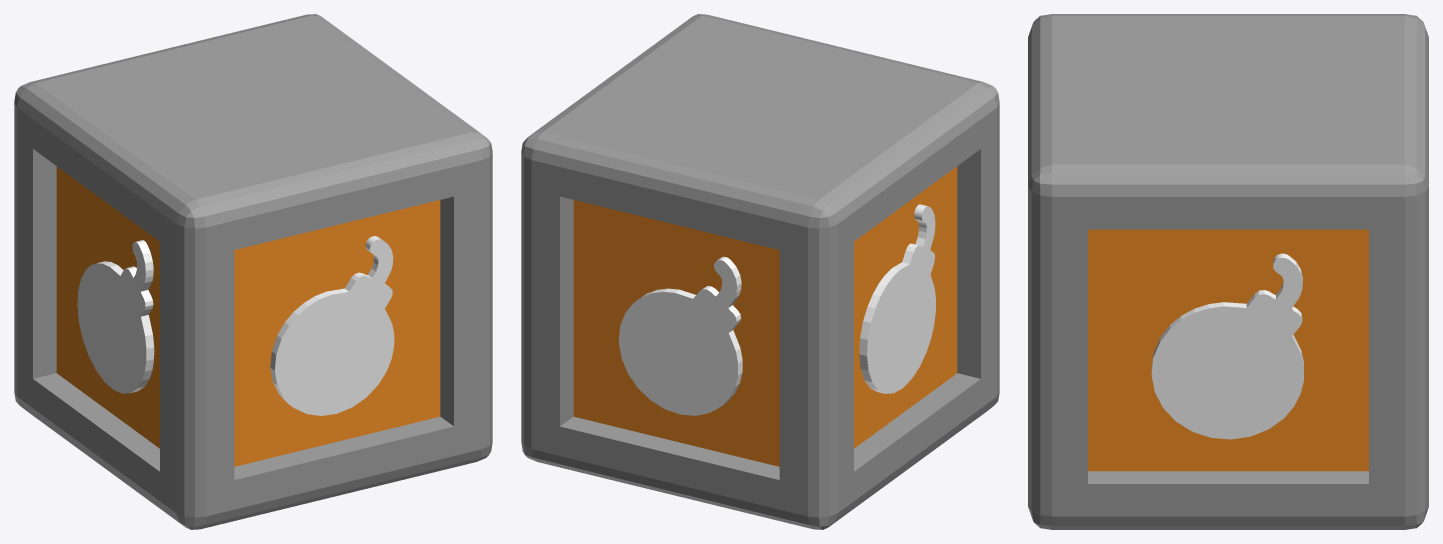
The model's file is Bomb Box.fbx.
The picture shows the model from 3 angles, left to right: view 1: azimuth 30°, elevation 25°; view 2: azimuth 150°, elevation 25°; view 3: azimuth 270°, elevation 25°; orthographic projection. The views are drawn at different scales.
Visible parts, largest first — view 1: Bomb box, Bomb Icon; view 2: Bomb box, Bomb Icon; view 3: Bomb box, Bomb Icon.
Part boxes in pixels (x1,y1,x2,y2): Bomb box: [14, 14, 492, 529]; Bomb Icon: [77, 236, 394, 415]; Bomb box: [521, 14, 999, 529]; Bomb Icon: [618, 204, 935, 415]; Bomb box: [1028, 14, 1428, 529]; Bomb Icon: [1151, 253, 1303, 439].
Bounding box in the file's own units: 200 × 200 × 200.
